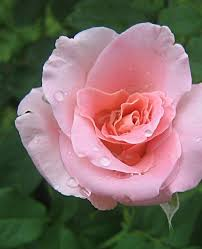flower: (28, 26, 199, 241)
